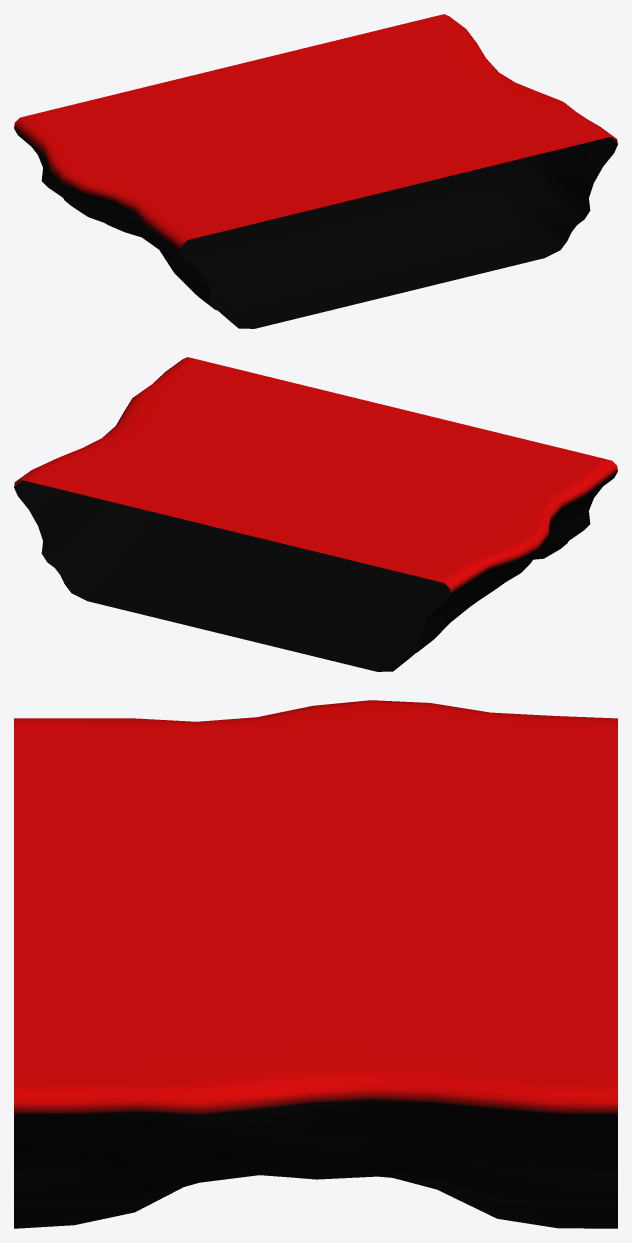
File: CrossingCliff01D 3M Foreground.fbx
The picture shows the model from 3 angles, top to bottom: view 1: azimuth 30°, elevation 25°; view 2: azimuth 150°, elevation 25°; view 3: azimuth 270°, elevation 25°; orthographic projection. The views are drawn at different scales.
Visible parts, largest first — view 1: CrossingCliff01D 3M Foreground; view 2: CrossingCliff01D 3M Foreground; view 3: CrossingCliff01D 3M Foreground.
Part boxes in pixels (x1,y1,x2,y2): CrossingCliff01D 3M Foreground: [14, 14, 617, 328]; CrossingCliff01D 3M Foreground: [14, 357, 617, 671]; CrossingCliff01D 3M Foreground: [14, 700, 617, 1228].
Size of the model in its own units: 3.15 by 0.6931 by 2.
